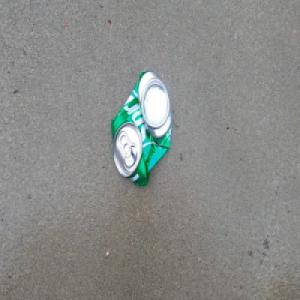SodaCan: (110, 70, 174, 190)
